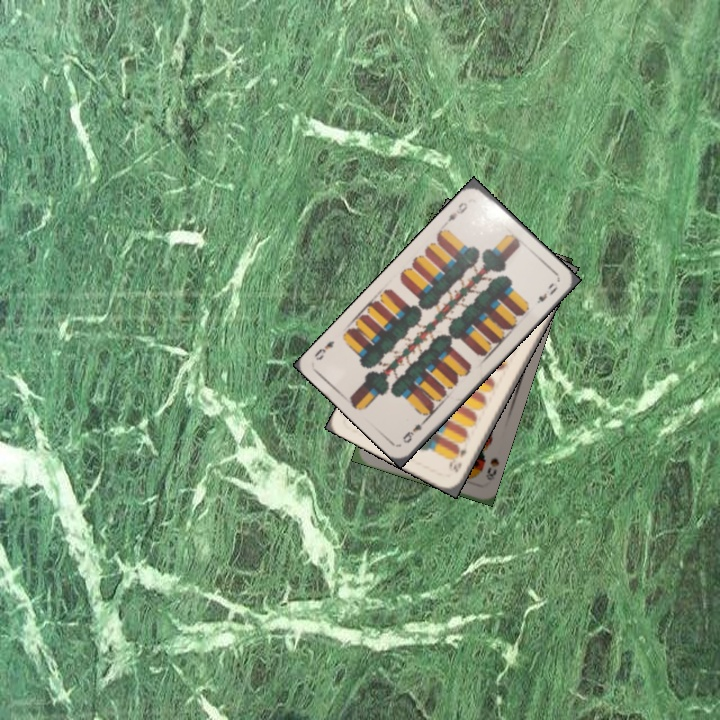E10: (445, 440, 470, 475)
E9: (398, 415, 430, 446), (443, 198, 470, 224)
S8: (482, 454, 502, 483)
